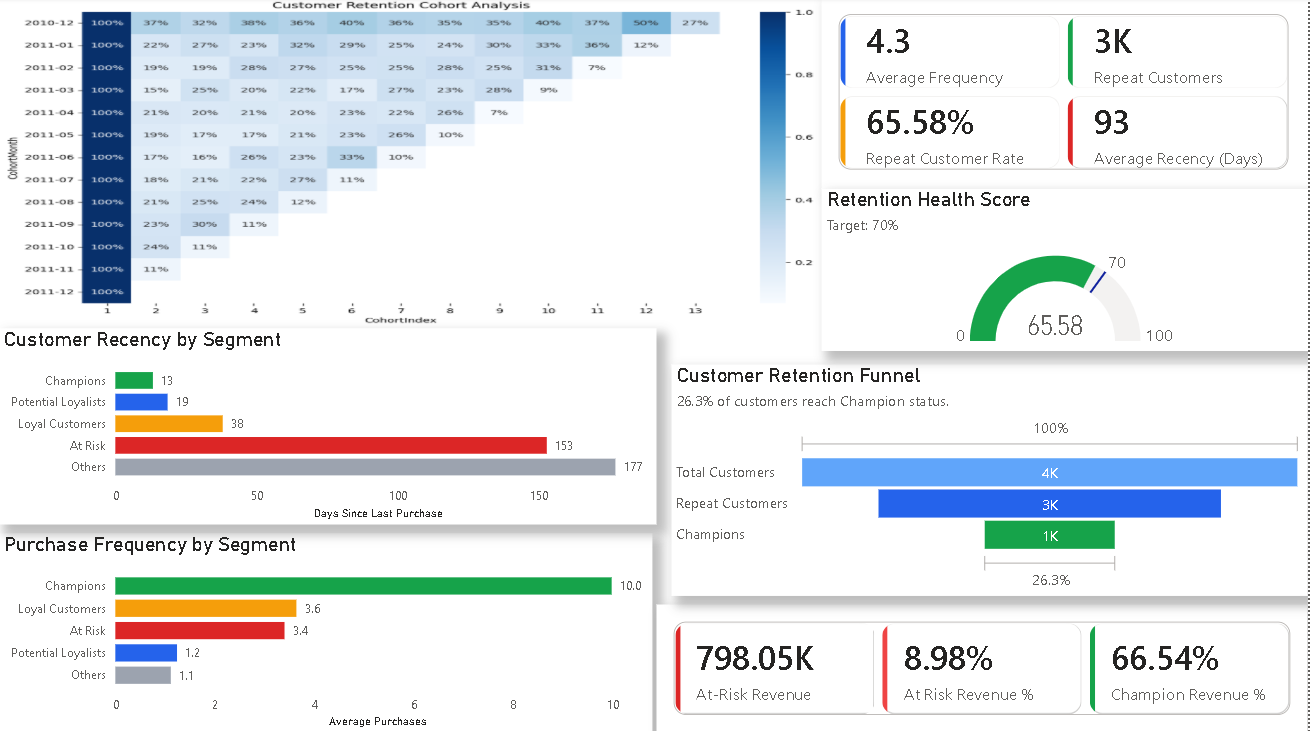

What the dashboard file says about the page in this screenshot:
{"tool":"powerbi","page":{"name":"Retention Analytics","canvas":[1280,720],"ordinal":3},"visuals":[{"type":"image","box":[0,0,804.6,324.1],"z":0},{"type":"clusteredBarChart","title":"Purchase Frequency by Segment","fields":{"Category":["customer_segments.Segment"],"Y":["Avg(customer_segments.Frequency)"]},"box":[0,524.6,639.5,195.7],"z":5000},{"type":"clusteredBarChart","title":"Customer Recency by Segment","fields":{"Y":["Avg(customer_segments.Recency)"],"Category":["customer_segments.Segment"]},"box":[0,324.1,643.2,192],"z":6000},{"type":"cardVisual","fields":{"Data":["customer_segments.At Risk Revenue","customer_segments.At Risk Revenue %","customer_segments.Champion Revenue %"]},"box":[643.2,594.3,637.1,126],"z":8001},{"type":"funnel","title":"Customer Retention Funnel","fields":{"Category":["RetentionFunnel.Column1"],"Y":["Sum(RetentionFunnel.Column2)"]},"box":[657.9,359.5,622.4,226.2],"z":8002},{"type":"cardVisual","fields":{"Data":["customer_segments.Average Frequency","customer_segments.Repeat Customers","customer_segments.Repeat Customer Rate","customer_segments.Average Recency"]},"box":[804.6,0,475.7,187.1],"z":8003},{"type":"gauge","title":"Retention Health Score","fields":{"TargetValue":["customer_segments.Retention Target"],"MinValue":["customer_segments.Gauge Min"],"MaxValue":["customer_segments.Gauge Max"],"Y":["customer_segments.Repeat Customer Rate %"]},"box":[804.6,187.1,475.7,159],"z":8004}]}

Visuals, with their boxes in screenshot pixels (x1, y1, x2, y2), scaled from the page's 1280x720 canvas onto the 1310x731 screenshot:
image: l=0, t=0, r=823, b=329
"Purchase Frequency by Segment" clusteredBarChart: l=0, t=533, r=654, b=730
"Customer Recency by Segment" clusteredBarChart: l=0, t=329, r=658, b=524
cardVisual - customer_segments.At Risk Revenue x customer_segments.At Risk Revenue %: l=658, t=603, r=1309, b=730
"Customer Retention Funnel" funnel: l=673, t=365, r=1309, b=595
cardVisual - customer_segments.Average Frequency x customer_segments.Repeat Customers: l=823, t=0, r=1309, b=190
"Retention Health Score" gauge: l=823, t=190, r=1309, b=351
